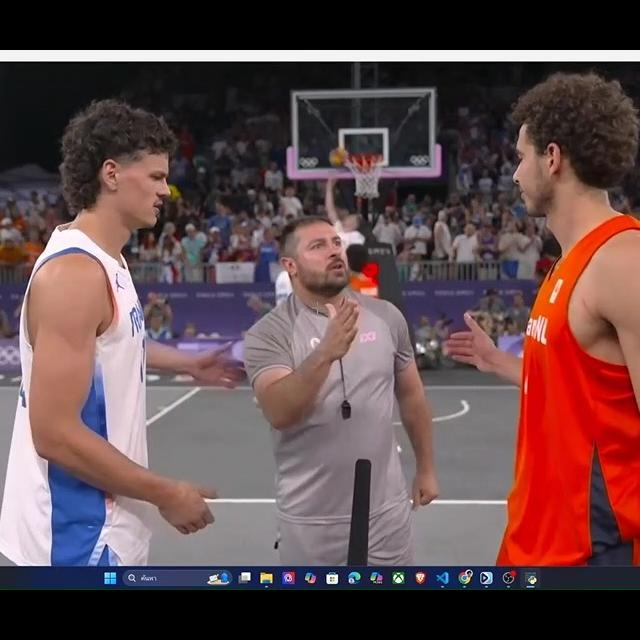hoop: (342, 151, 390, 202)
